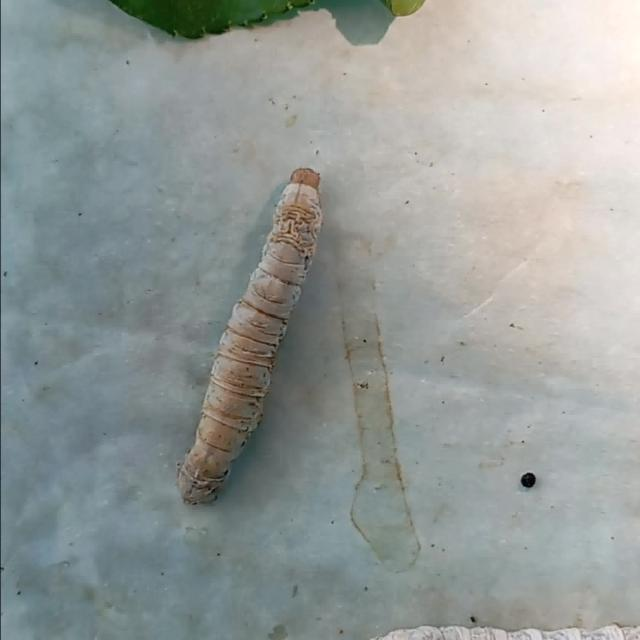Grasserie: (156, 146, 372, 515)
